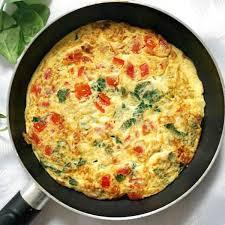omelette: (34, 28, 198, 219)
